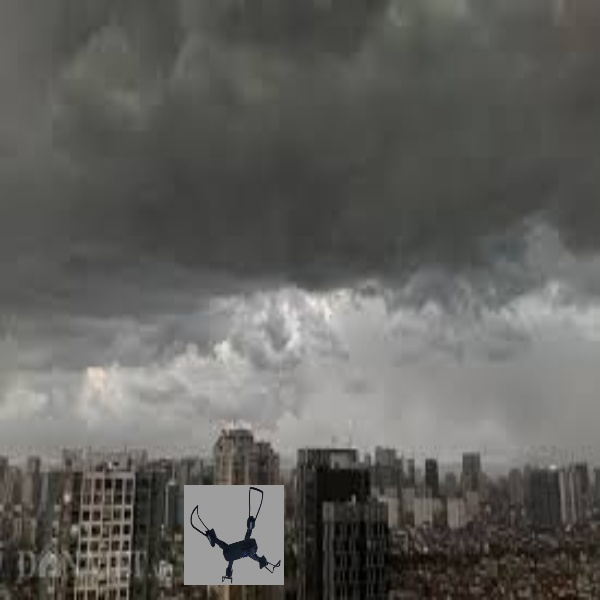drone: (183, 480, 285, 583)
